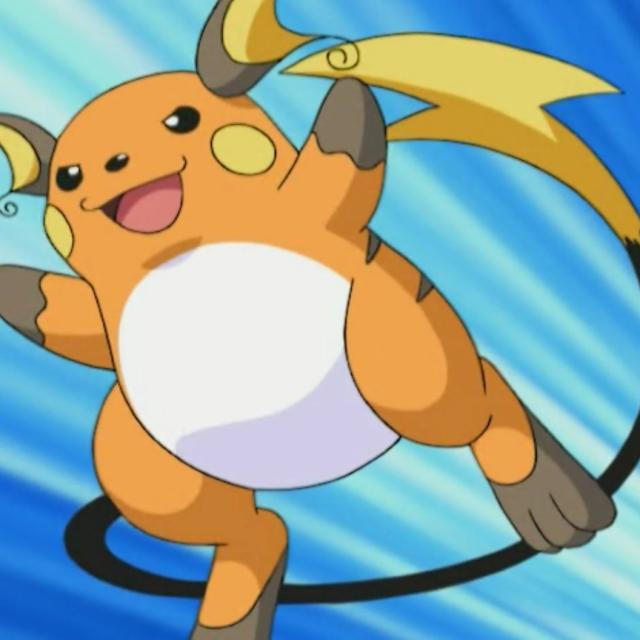Raichu: (36, 31, 482, 592)
